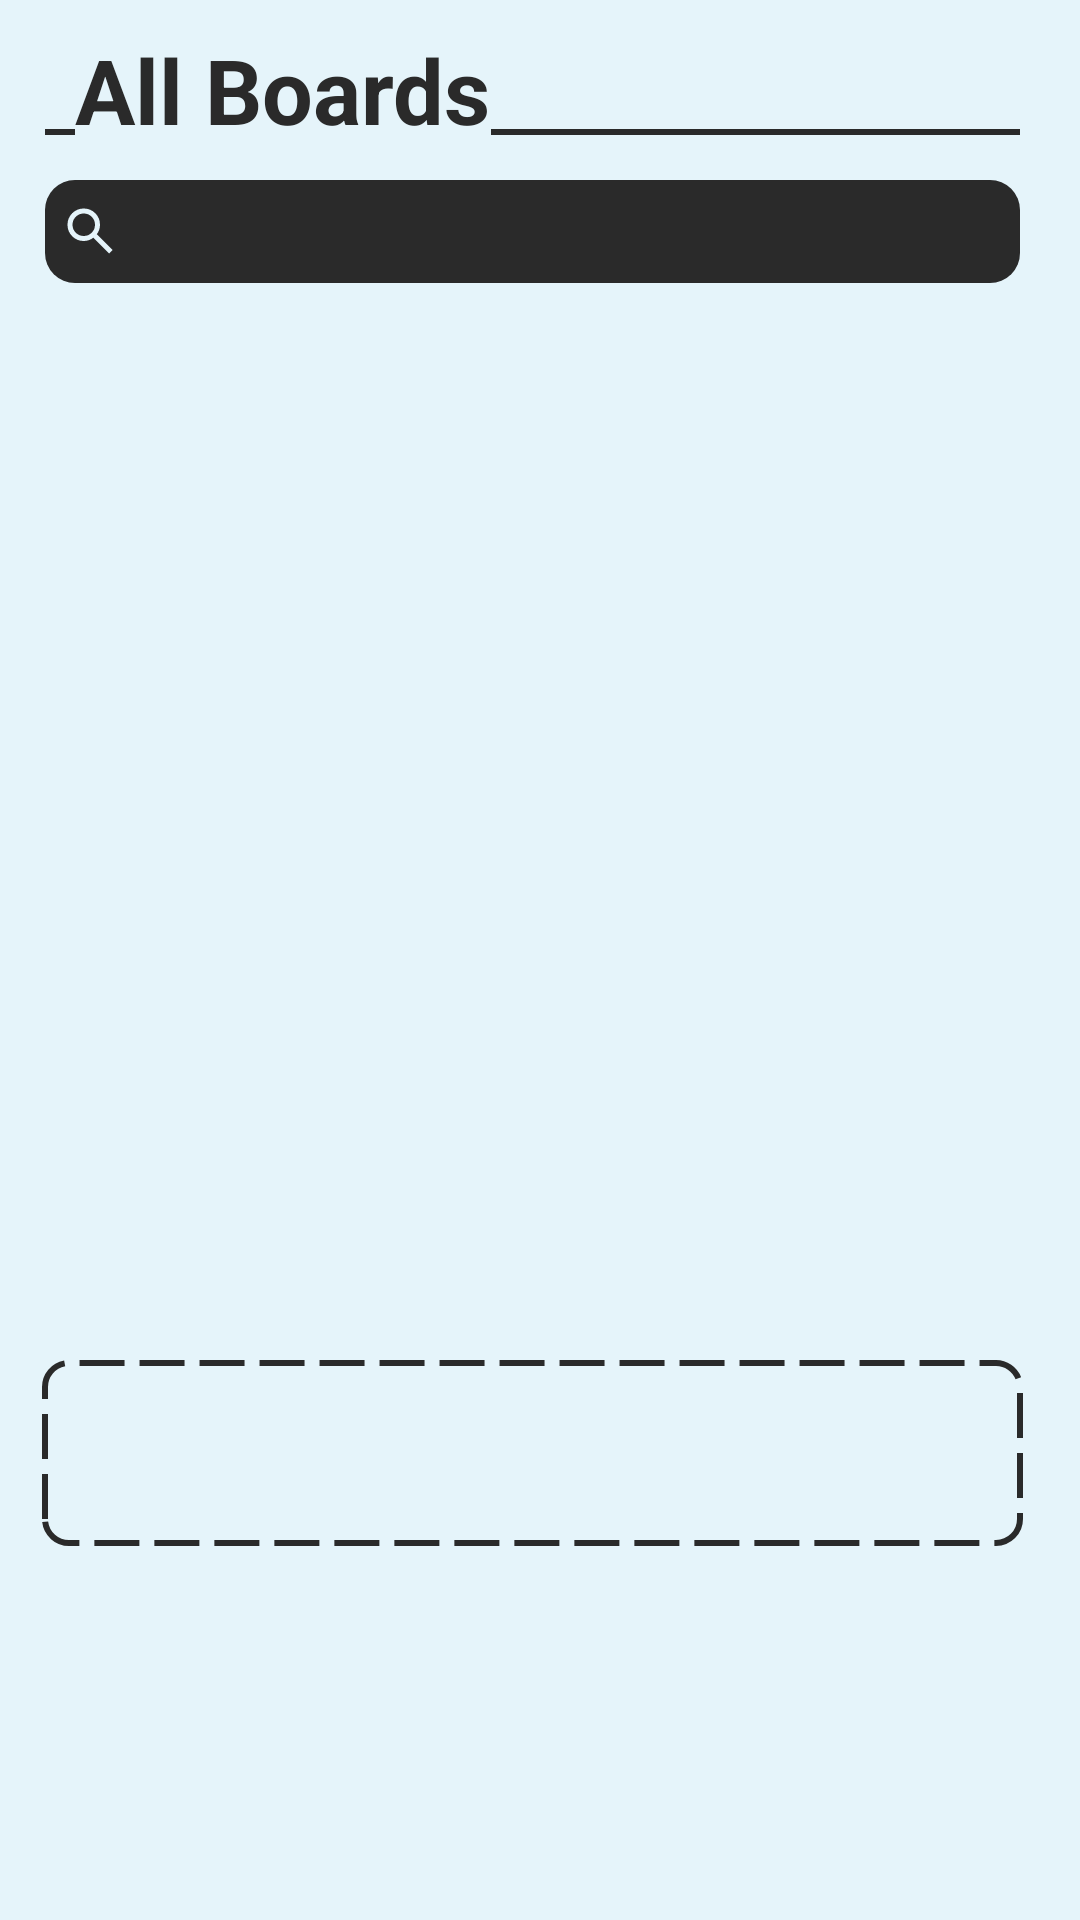

Named icons in this screenshot (1080×1920) and their bounding boxes, (x1, y1, x2, y2):
search: (67, 208, 113, 254)
